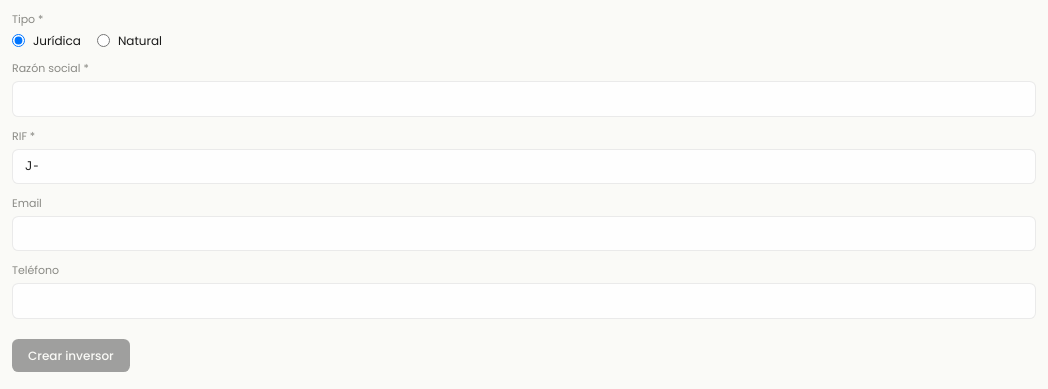
<InvestorCreateForm /> › swaps RIF prefix to V- when switching to natural and back
Click the radio button labelled "Natural" at (103, 41), box [97,34,110,47]
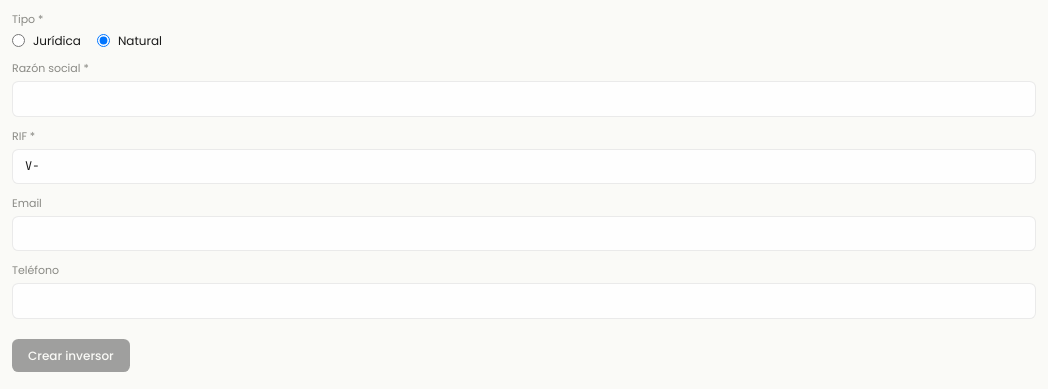
Now the field labelled "RIF *" holds "V-", box [12,149,1036,184]
Click the radio button labelled "Jurídica" at (18, 41), box [12,34,25,47]
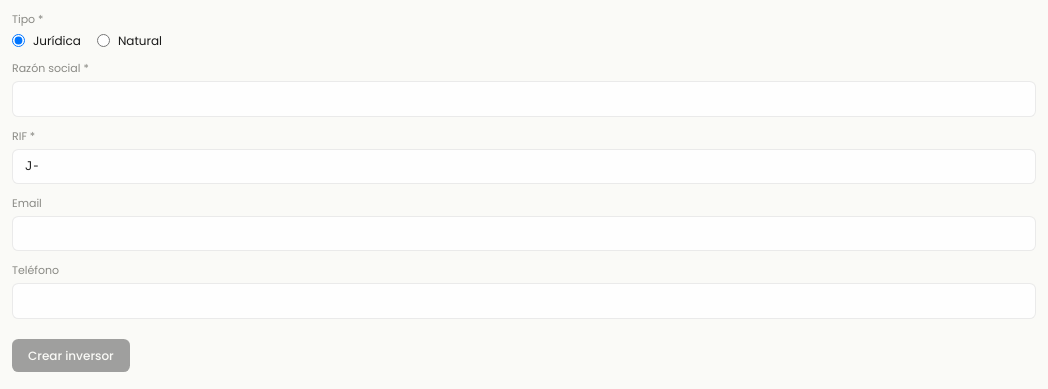
Now the field labelled "RIF *" holds "J-", box [12,149,1036,184]
